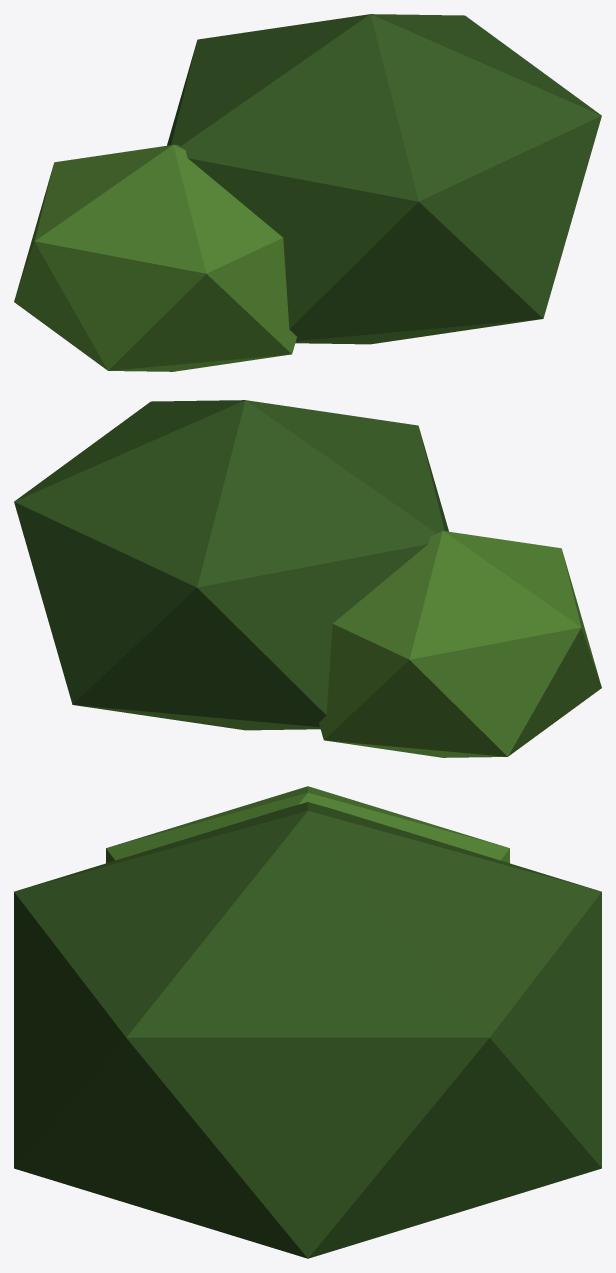
Rendered from SM_Bush.fbx.
3 views of the same model, one above another, from view 1: azimuth 30°, elevation 25°; view 2: azimuth 150°, elevation 25°; view 3: azimuth 270°, elevation 25° (orthographic). The views are drawn at different scales.
Visible parts, largest first — view 1: SM_Bush; view 2: SM_Bush; view 3: SM_Bush.
Boxes of the visible parts, x1,y1,x2,y2 form: SM_Bush: (14,14,601,371); SM_Bush: (14,400,601,757); SM_Bush: (14,786,601,1258).
Bounding box in the file's own units: 1.91 × 1.36 × 1.12.
